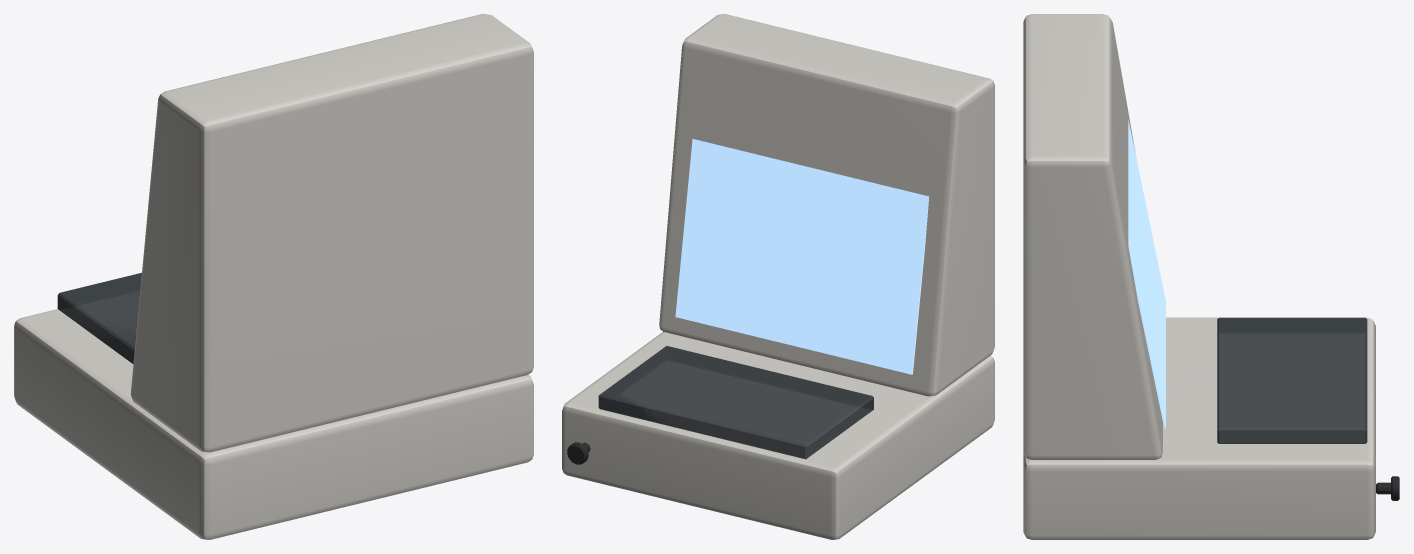
File: prop_microfiche.glb
3 renders of one model, left to right at view 1: azimuth 30°, elevation 25°; view 2: azimuth 150°, elevation 25°; view 3: azimuth 270°, elevation 25°, orthographic. The views are drawn at different scales.
Visible parts, largest first — view 1: Reader; view 2: Reader; view 3: Reader.
Part boxes in pixels (<box>): Reader: <box>14,14,533,539</box>; Reader: <box>562,14,994,539</box>; Reader: <box>1023,14,1399,539</box>.
Size of the model in its own units: 0.4 by 0.48 by 0.427.
